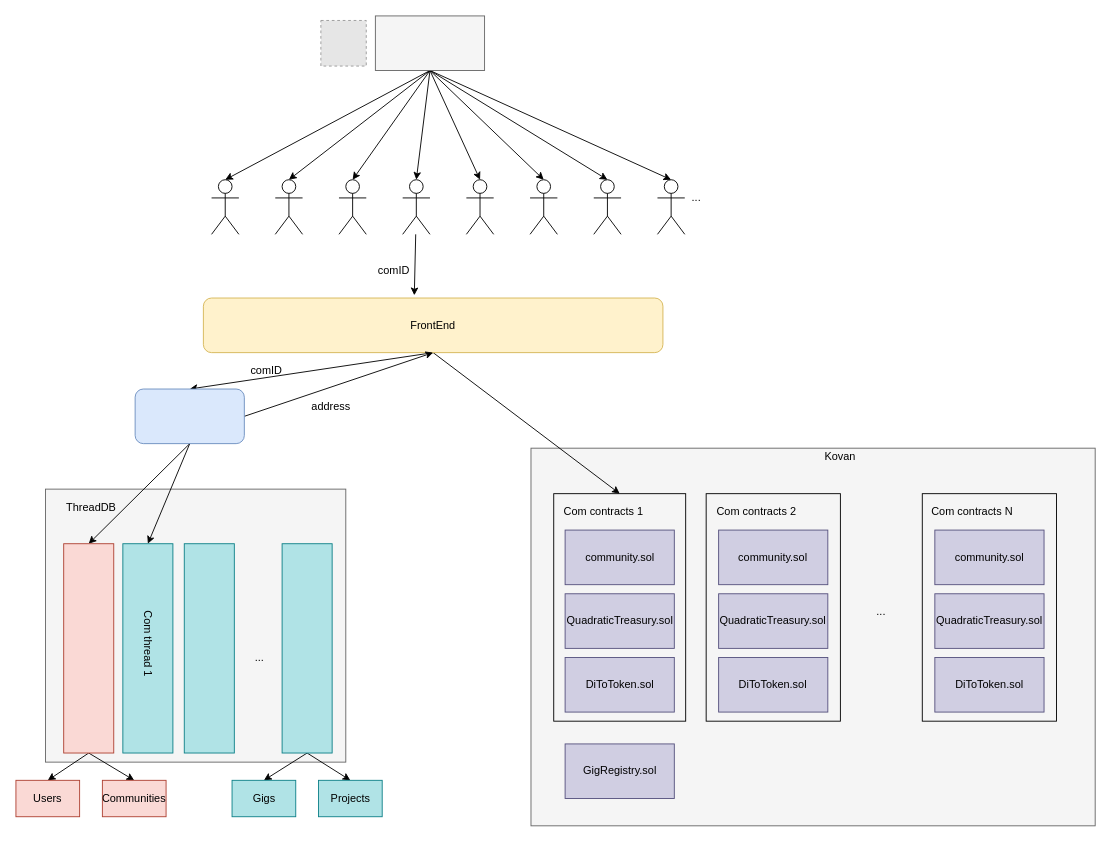
Image size: 1111x842. Some labels were removed from this diagram. Grey dashed boxes stand in for pictures. Each missing label, with the box of its shape:
BackEnd: (134, 388, 244, 444)
Com thread 2: (183, 543, 234, 753)
Com thread N: (281, 543, 332, 753)
Public: (63, 543, 114, 753)
SkillWallet.sol: (374, 15, 485, 71)
